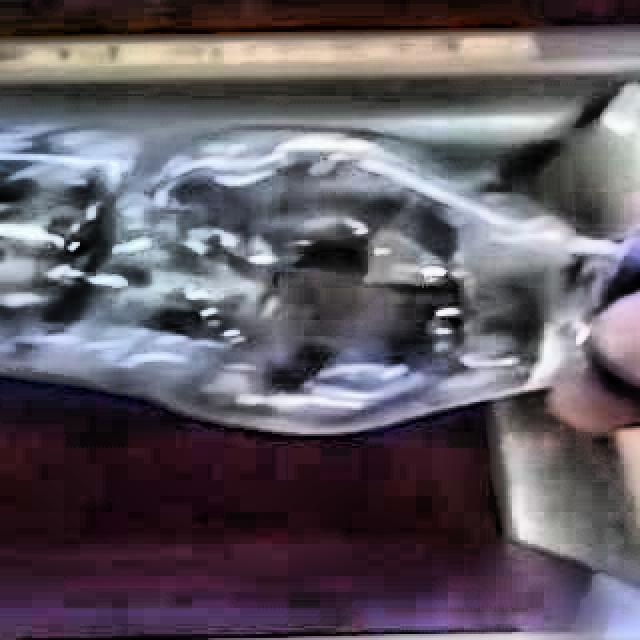plastic: (0, 109, 640, 440)
